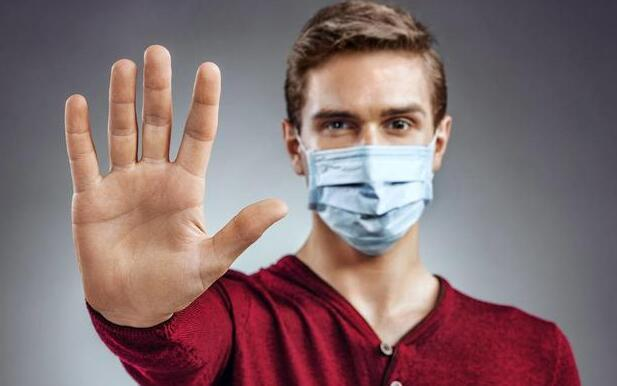mask: (304, 59, 442, 254)
